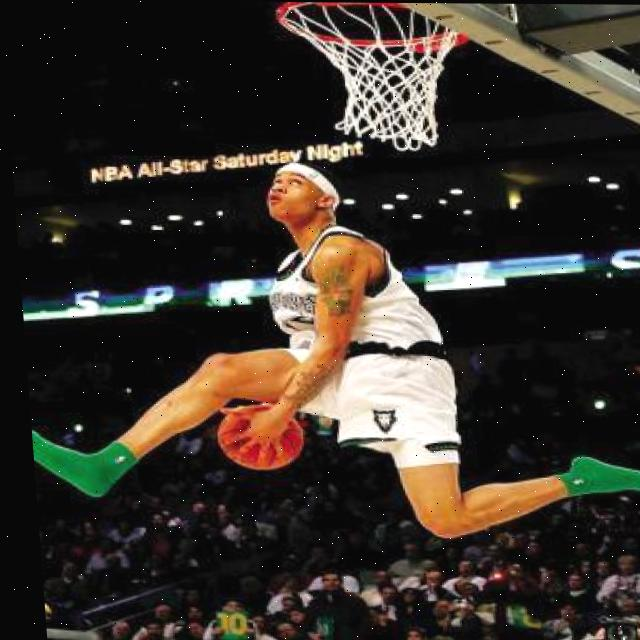basketball: (220, 400, 306, 470)
hoop: (273, 2, 485, 150)
